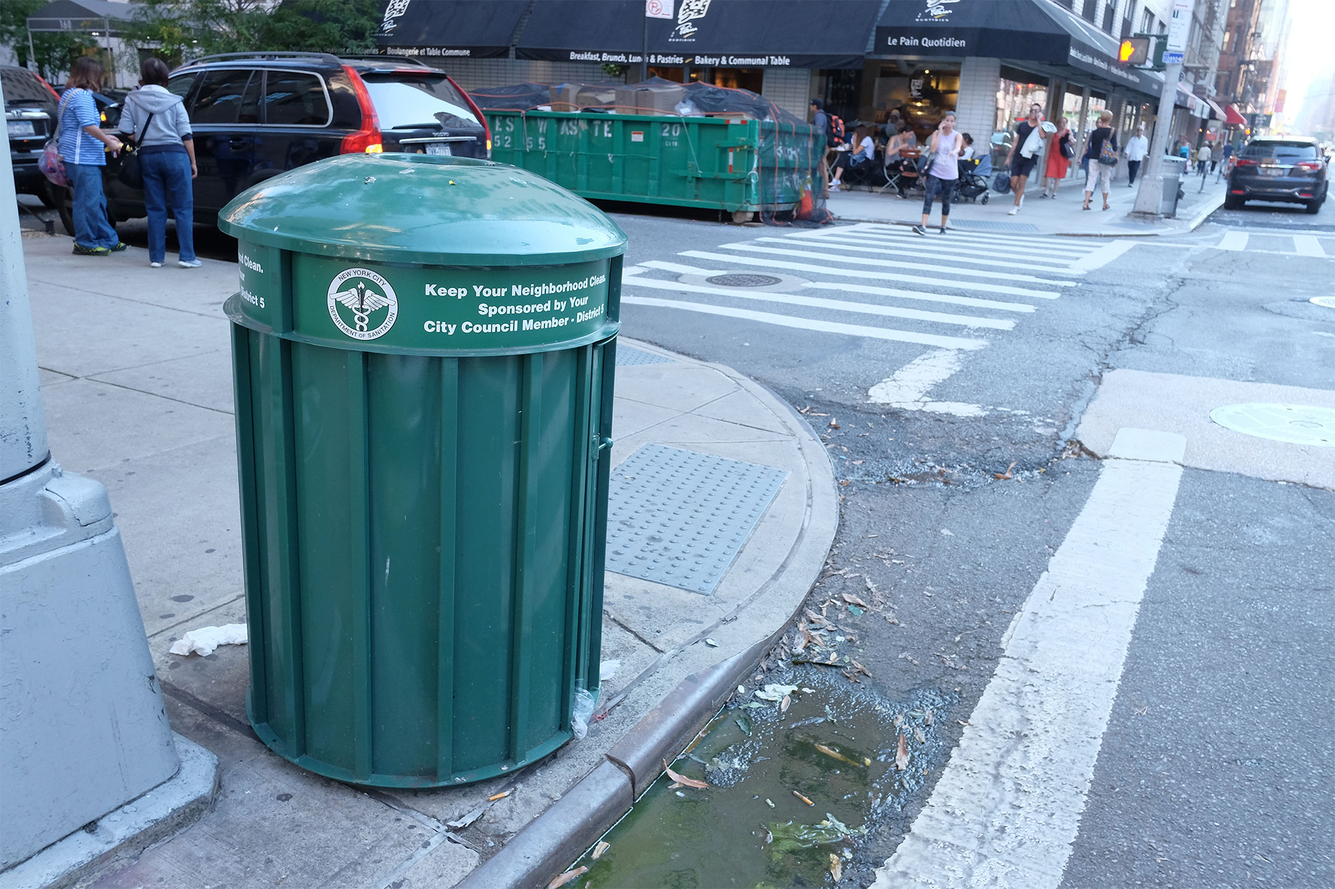Car: (1227, 135, 1324, 225)
Crosswalk: (657, 217, 1051, 388)
Person: (117, 59, 214, 271), (923, 117, 971, 239)
TrashBin: (203, 142, 623, 788)
